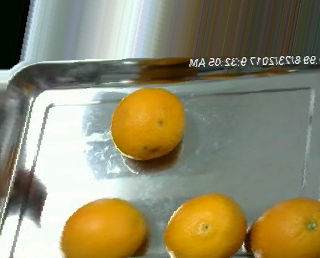Orange: (110, 86, 185, 160), (163, 192, 247, 258), (59, 198, 146, 258), (249, 198, 319, 258)
